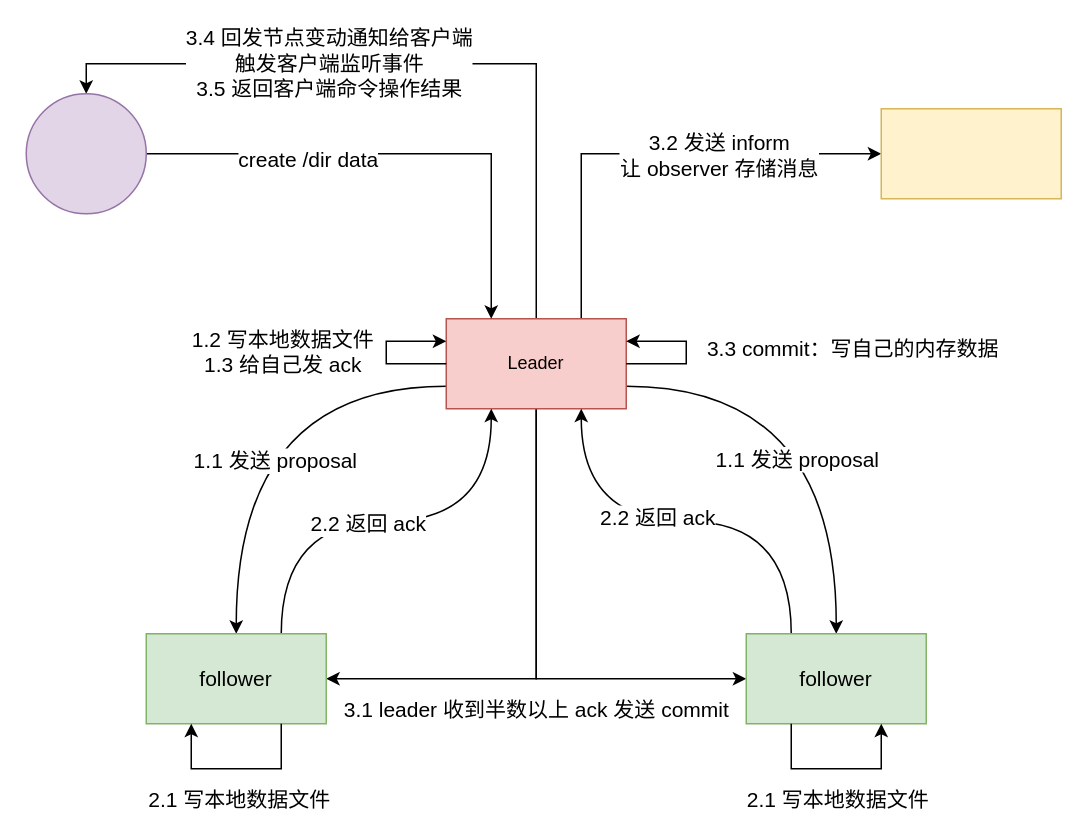
This 1088x839 diagram has some shape labels left out. Here are the shapes that lost their labels. From the top down, the box of each, then its label:
(25, 92, 146, 214): client
(880, 107, 1061, 199): observer
